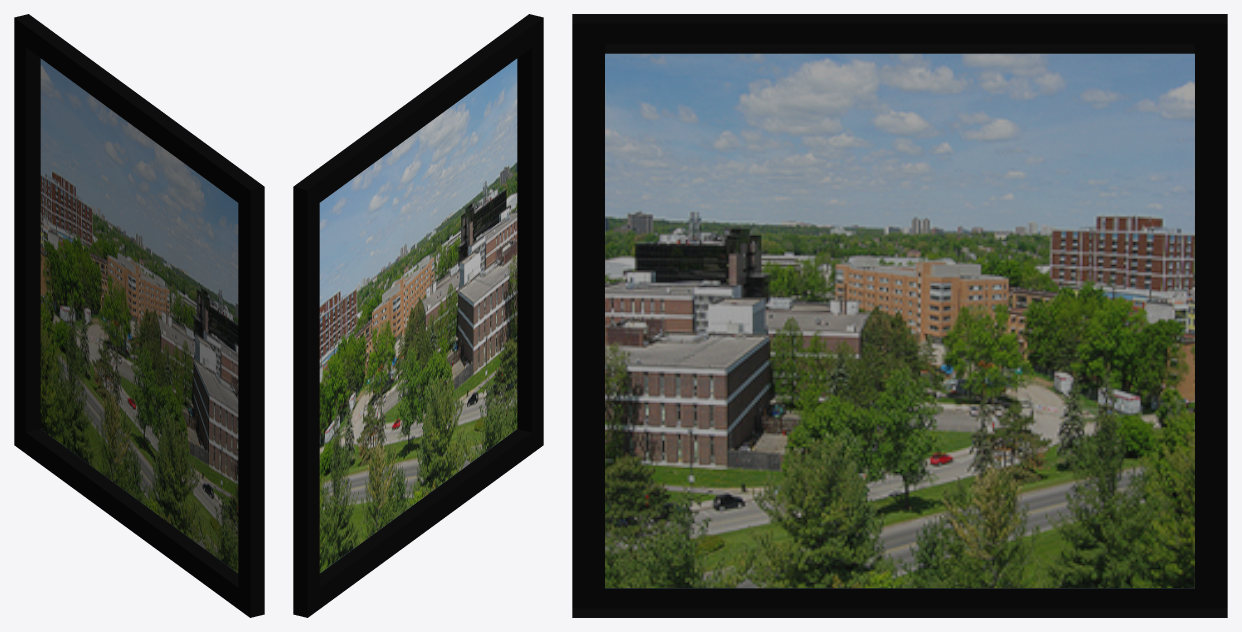
The model's file is Picture3.glb.
The picture shows the model from 3 angles, left to right: view 1: azimuth 30°, elevation 25°; view 2: azimuth 150°, elevation 25°; view 3: azimuth 270°, elevation 25°; orthographic projection. The views are drawn at different scales.
Visible parts, largest first — view 1: Picture3; view 2: Picture3; view 3: Picture3.
Boxes of the visible parts, bbox=[...] form: Picture3: bbox=[14, 14, 264, 617]; Picture3: bbox=[293, 14, 543, 617]; Picture3: bbox=[572, 14, 1227, 617].
Size of the model in its own units: 0.1 by 2.83 by 2.83.
Materials: 2 (2 with a texture image).
